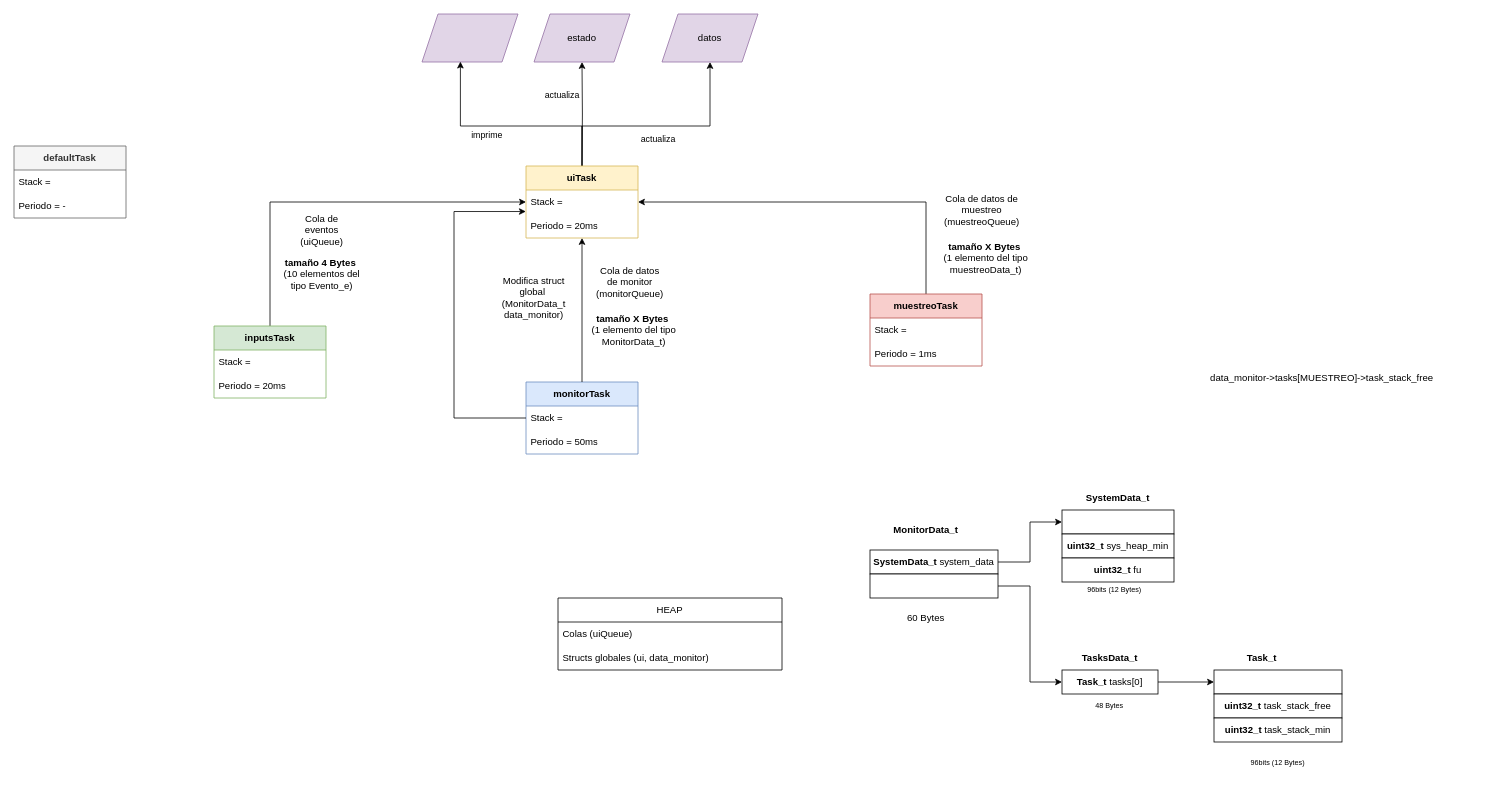
Image size: 1508x788. Some labels were removed from this diagram. Each missing label, with the centre of its shape:
oled: the point at 469,37
TaskID_e ID: the point at 1277,681
TasksData_t tasks_data: the point at 933,585
uint32_t sys_heap_free: the point at 1117,521
